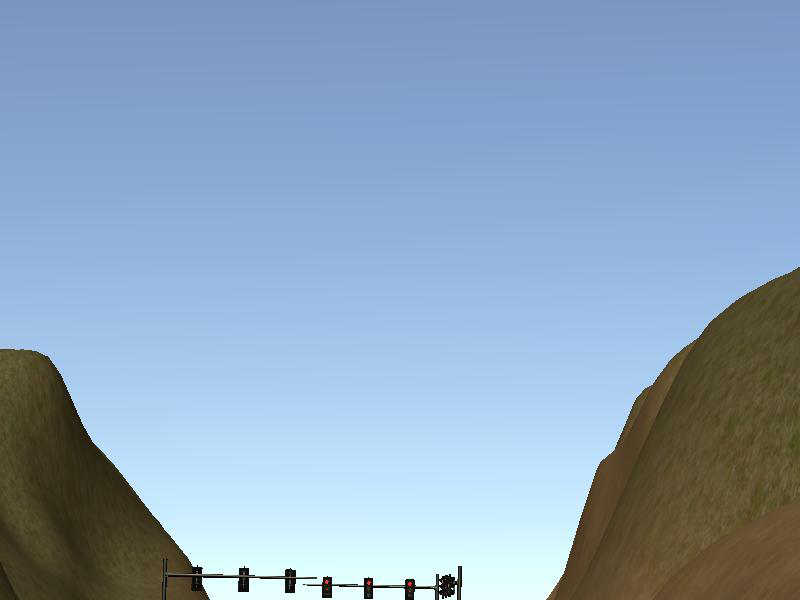red: (405, 579, 417, 600), (321, 577, 332, 598), (365, 576, 374, 600)
